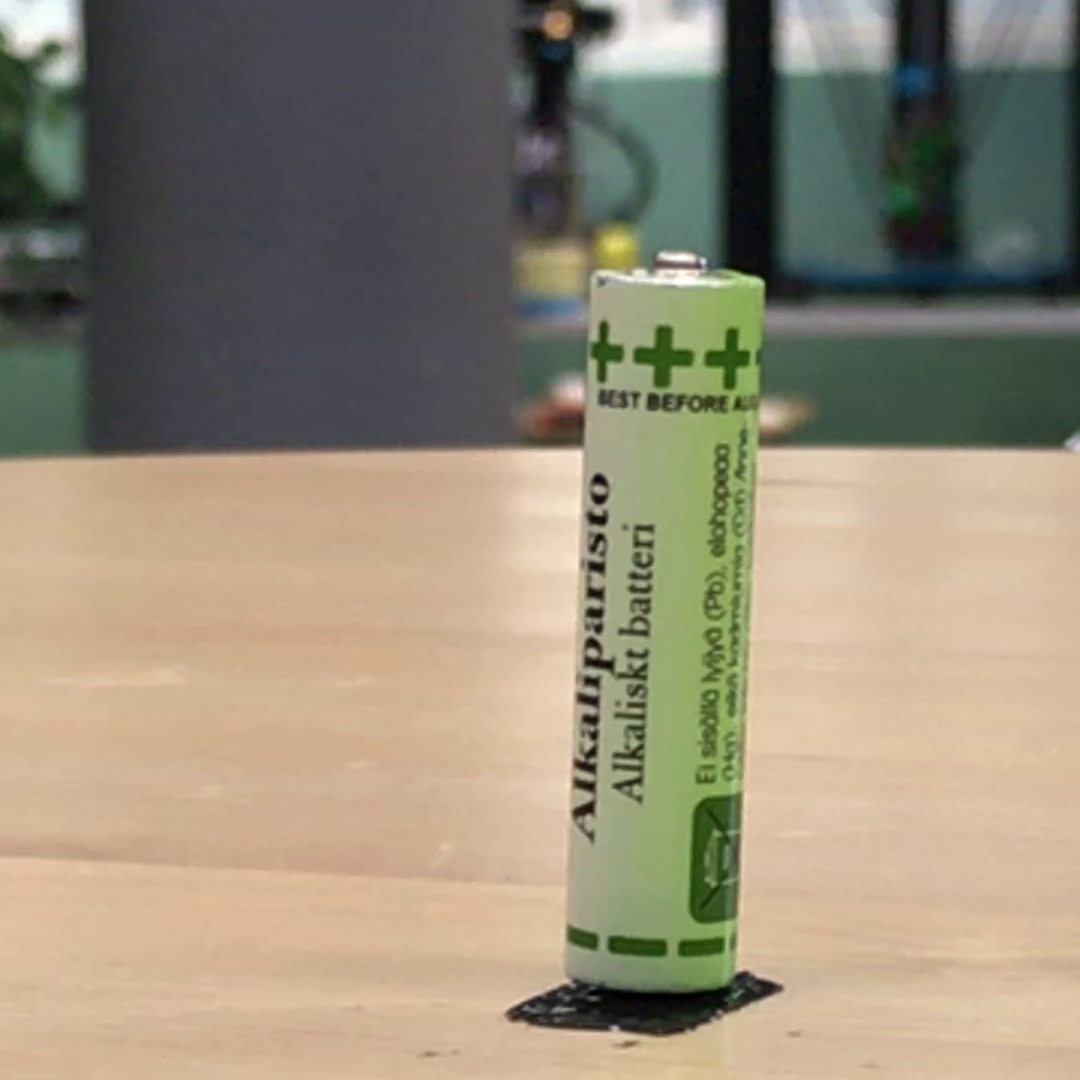keyword: (563, 767, 606, 853)
